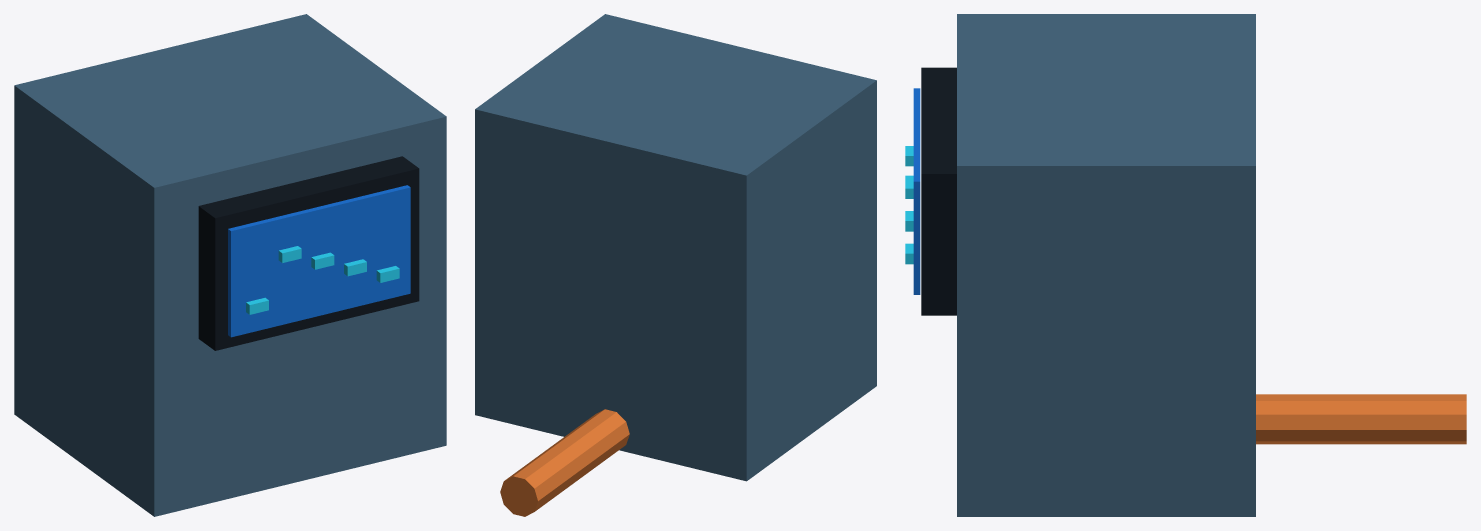
File: 21_L69_SuctionPressureTransmitter.fbx
3 renders of one model, left to right at view 1: azimuth 30°, elevation 25°; view 2: azimuth 150°, elevation 25°; view 3: azimuth 270°, elevation 25°, orthographic. The views are drawn at different scales.
Parts seen in each view (by area): view 1: SuctionPressureTransmitter; view 2: SuctionPressureTransmitter; view 3: SuctionPressureTransmitter.
Part boxes in pixels (x1,y1,x2,y2): SuctionPressureTransmitter: (14, 14, 446, 516); SuctionPressureTransmitter: (475, 14, 876, 516); SuctionPressureTransmitter: (905, 14, 1466, 516).
Bounding box in the file's own units: 53 × 57.02 × 82.6.
